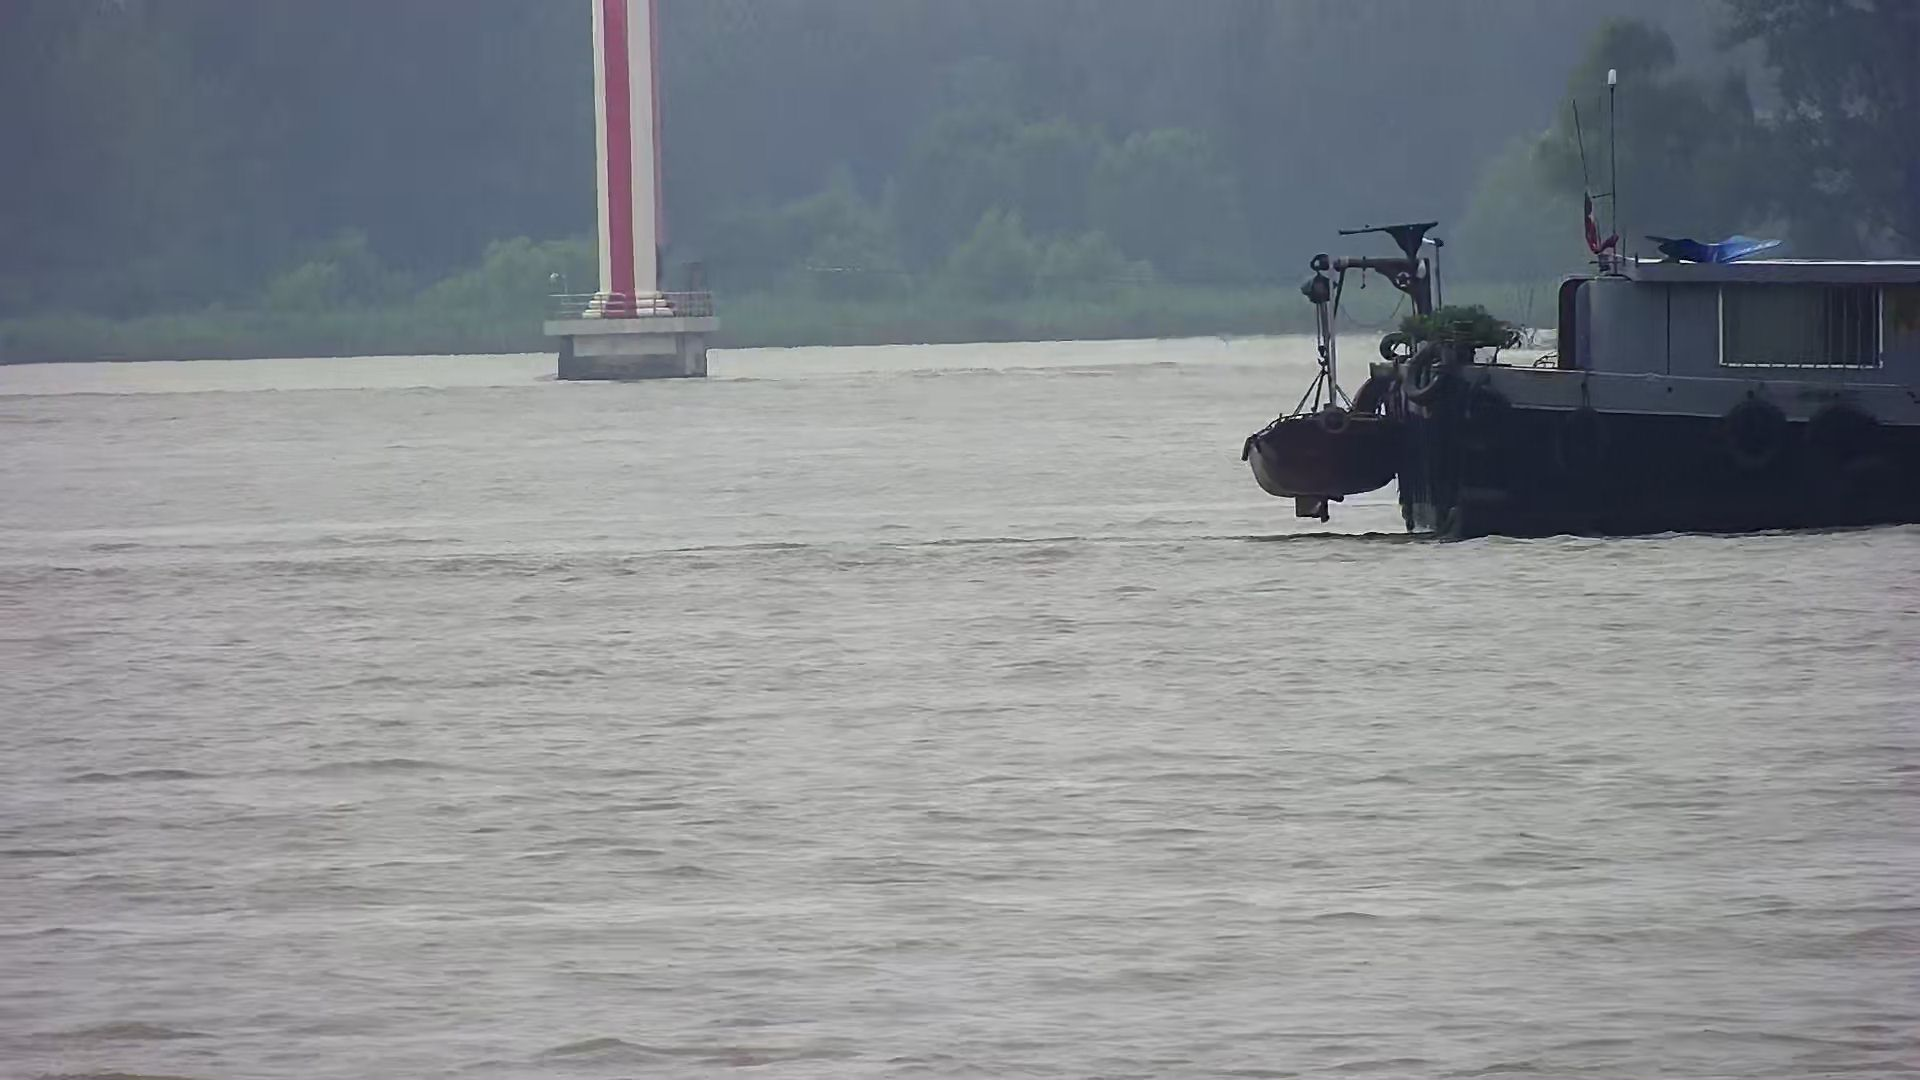platform: (539, 1, 719, 378)
ship: (1242, 199, 1920, 535)
tree: (1528, 17, 1766, 255), (1730, 3, 1920, 262)
